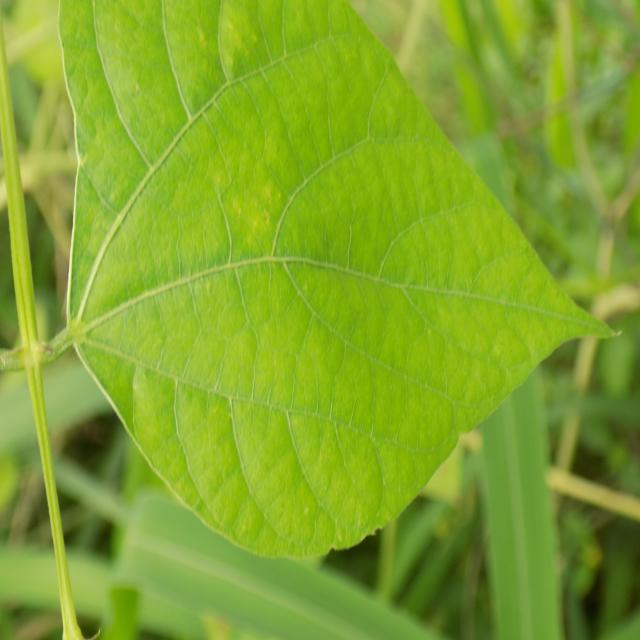Dolicos bean_healthy: (58, 9, 622, 554)
